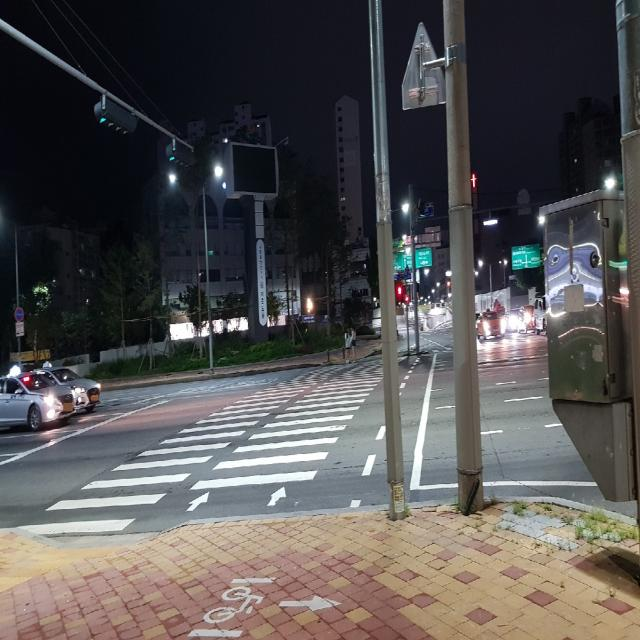횡단보도: (14, 356, 408, 534)
